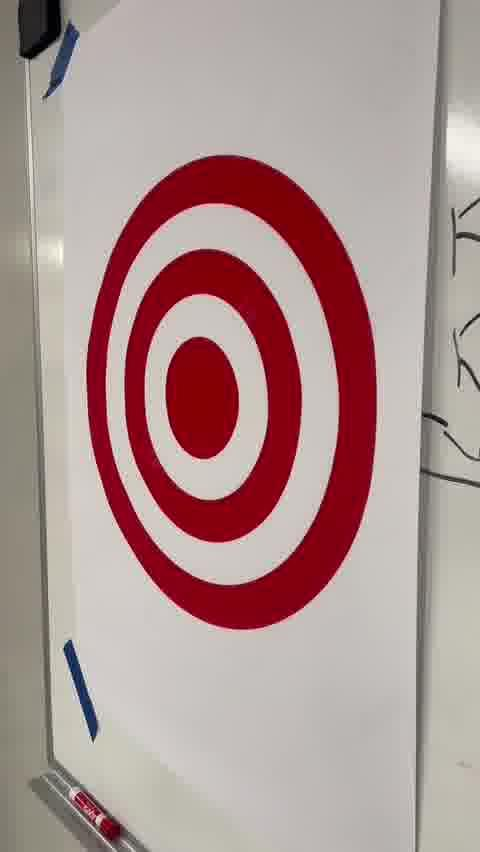target_red: (84, 153, 379, 633)
